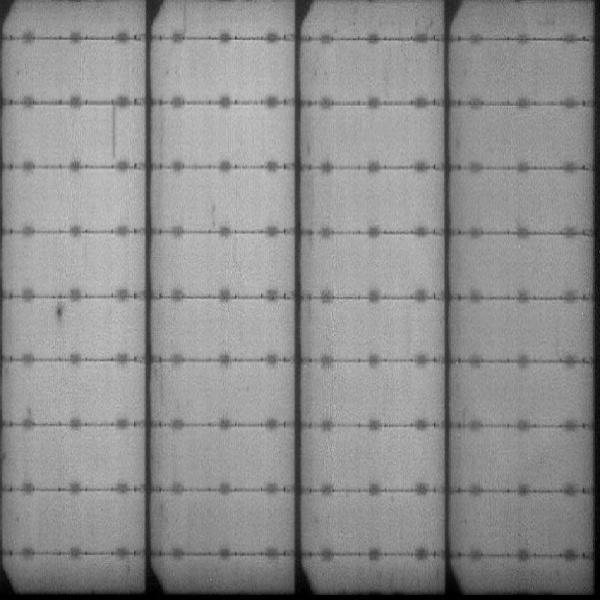scratch: (109, 107, 117, 161)
